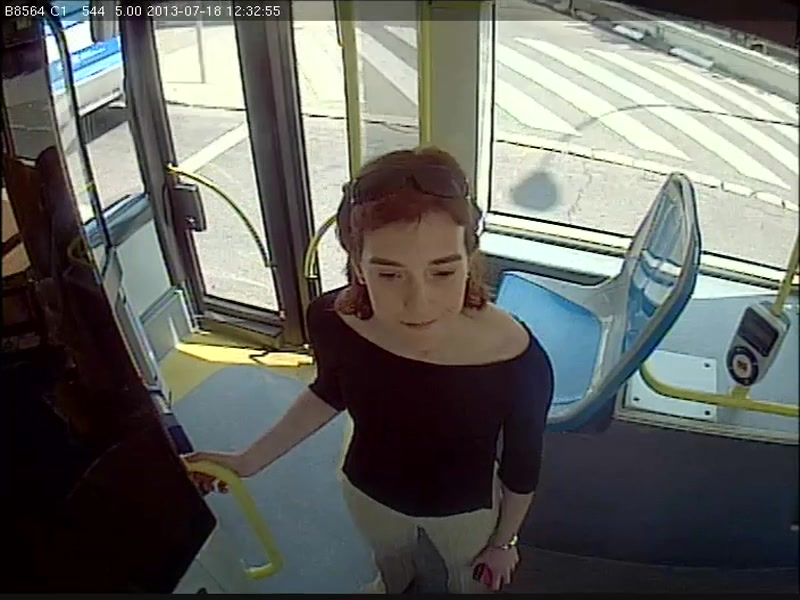Head: (337, 143, 494, 350)
